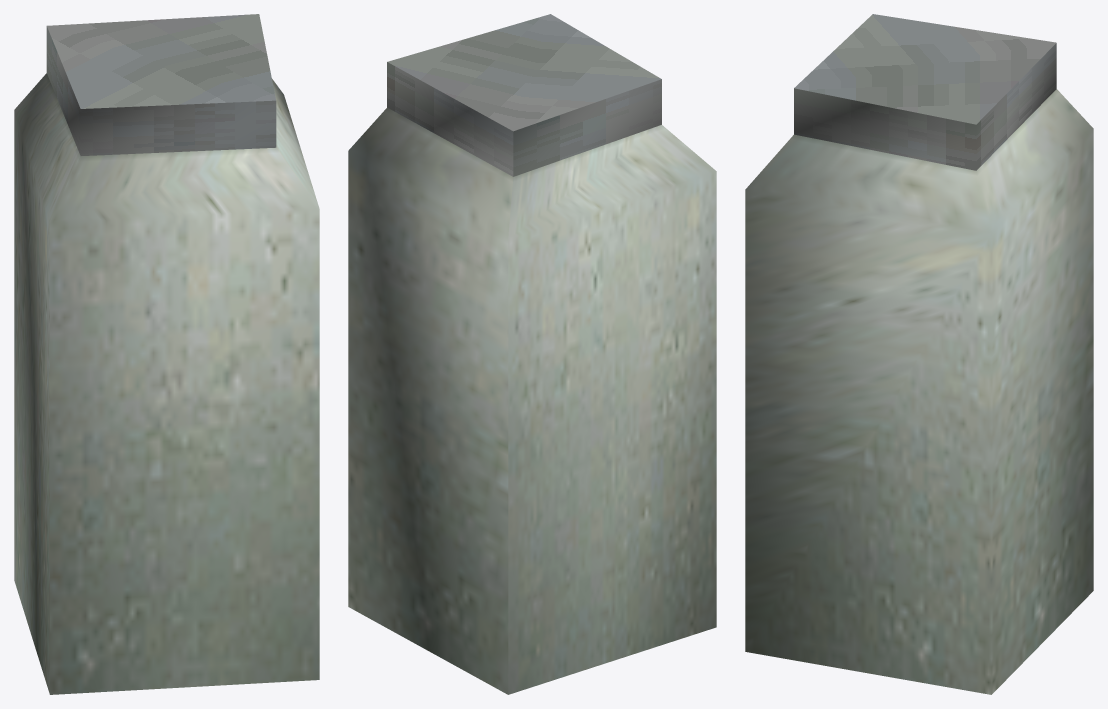
File: edb_con_tato_jar_guts_s01_l2.fbx
The picture shows the model from 3 angles, left to right: view 1: azimuth 30°, elevation 25°; view 2: azimuth 150°, elevation 25°; view 3: azimuth 270°, elevation 25°; orthographic projection. The views are drawn at different scales.
Visible parts, largest first — view 1: mesh_node; view 2: mesh_node; view 3: mesh_node.
Boxes of the visible parts, <box> form: mesh_node: <box>14,14,319,694</box>; mesh_node: <box>348,14,716,694</box>; mesh_node: <box>745,14,1093,694</box>.
Size of the model in its own units: 0.1707 by 0.3 by 0.1707.
2 materials, 2 textured.
